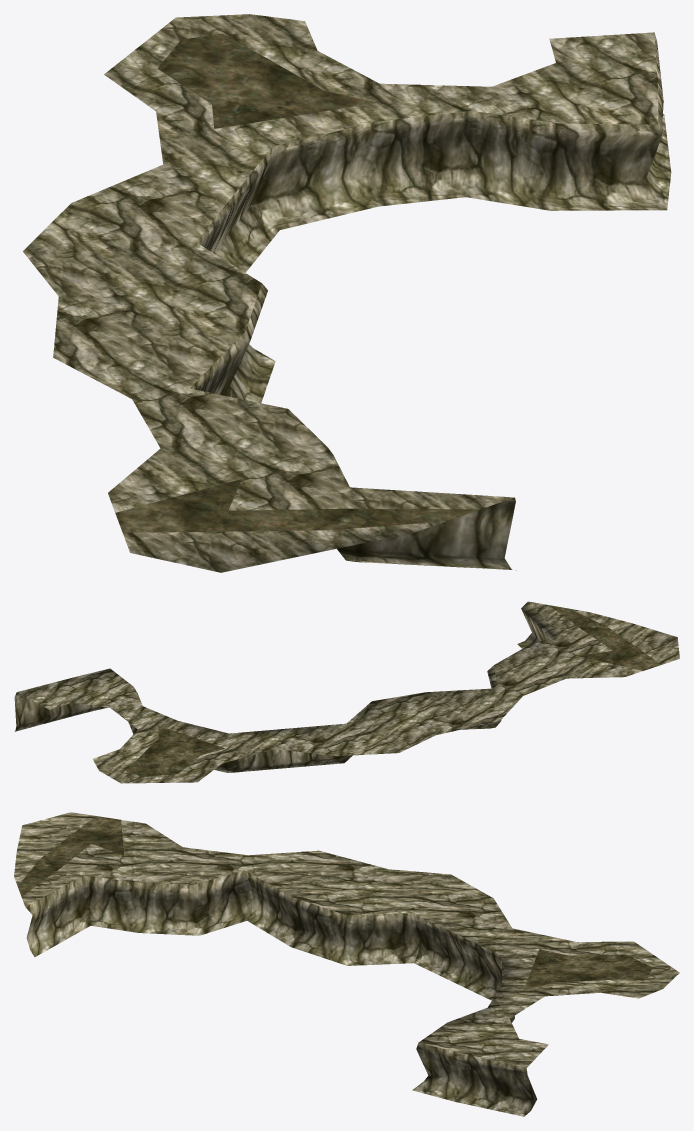
Rendered from CB_NEWPLAYSURFACE_CB_PLAYSURFACE99.fbx.
3 renders of one model, top to bottom at view 1: azimuth 30°, elevation 25°; view 2: azimuth 150°, elevation 25°; view 3: azimuth 270°, elevation 25°, orthographic. The views are drawn at different scales.
Visible parts, largest first — view 1: CB_NEWPLAYSURFACE_CB_PLAYSURFACE99; view 2: CB_NEWPLAYSURFACE_CB_PLAYSURFACE99; view 3: CB_NEWPLAYSURFACE_CB_PLAYSURFACE99.
Boxes of the visible parts, left/top/right/bottom form: CB_NEWPLAYSURFACE_CB_PLAYSURFACE99: left=23, top=14, right=671, bottom=572; CB_NEWPLAYSURFACE_CB_PLAYSURFACE99: left=14, top=601, right=679, bottom=783; CB_NEWPLAYSURFACE_CB_PLAYSURFACE99: left=14, top=812, right=679, bottom=1116.
Bounding box in the file's own units: 419854 × 35371 × 457006.
3 materials, 3 textured.
